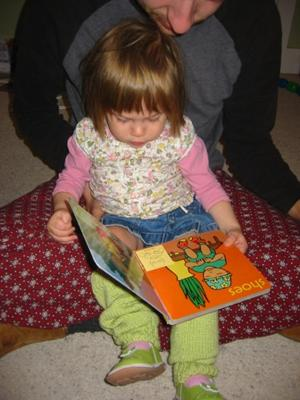person: (50, 21, 249, 400)
